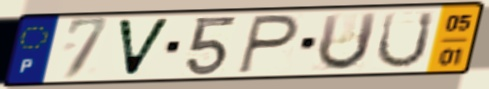5: (183, 16, 239, 78)
7: (55, 15, 111, 84)
P: (235, 12, 302, 76)
U: (314, 10, 382, 73), (373, 10, 438, 71)
V: (114, 17, 175, 79)
